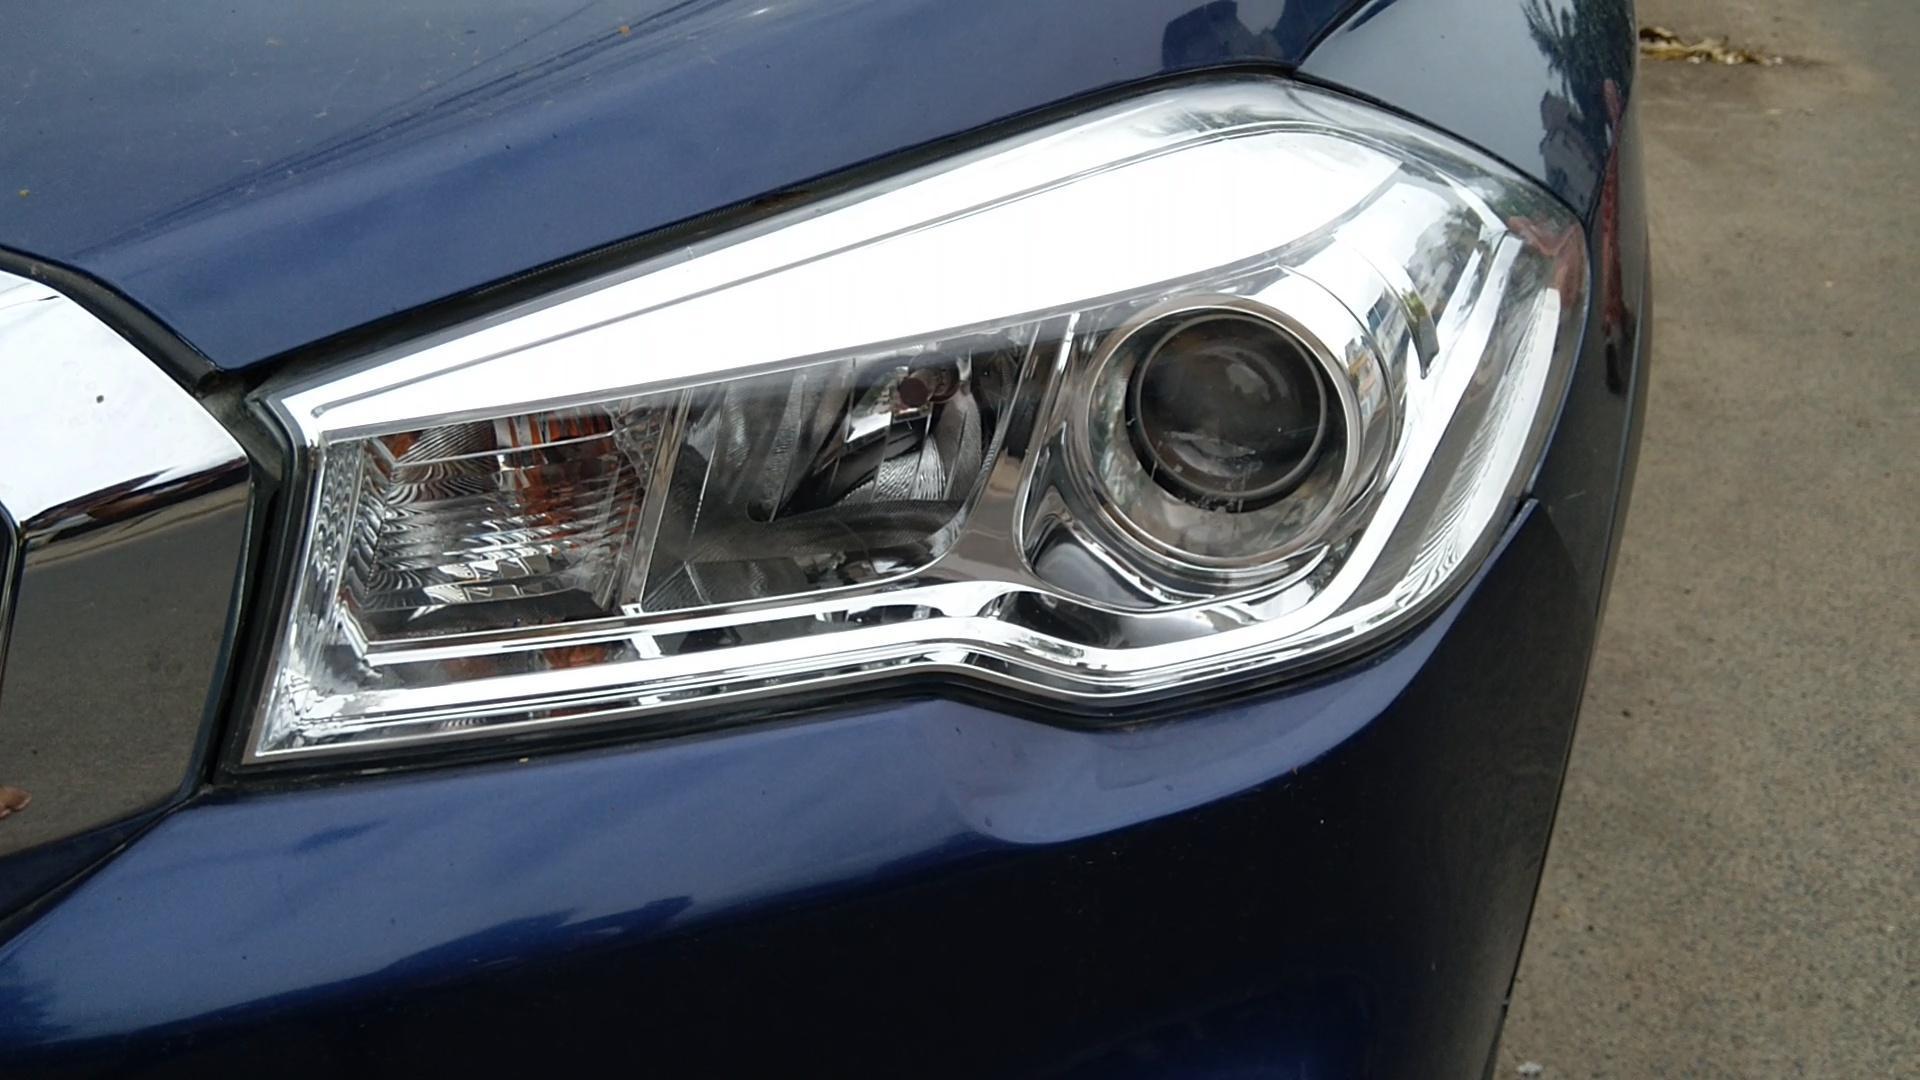headlamp: (196, 42, 1619, 840)
